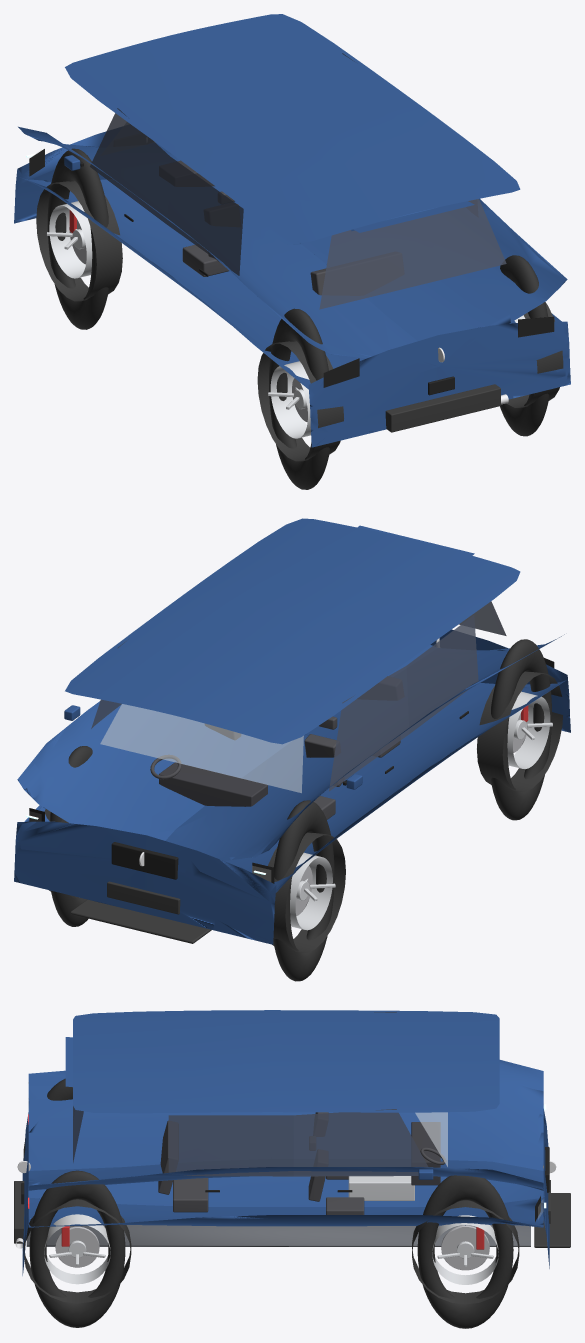
Rendered from Car_Hatchback_Complete.glb.
The picture shows the model from 3 angles, top to bottom: view 1: azimuth 30°, elevation 25°; view 2: azimuth 150°, elevation 25°; view 3: azimuth 270°, elevation 25°; orthographic projection. The views are drawn at different scales.
Parts seen in each view (by area): view 1: GEO_Roof, GEO_Body_Upper, GEO_Bumper_Rear, GEO_RearWindow, GEO_RearWindow.001, GEO_Body_Main, GEO_Window_RR, GEO_Window_RR.001, GEO_Window_FR, GEO_Window_FR.001, GEO_Tire_FR, GEO_Tire_RR (+14 smaller); view 2: GEO_Roof, GEO_Body_Upper, GEO_Bumper_Front, GEO_Body_Main, GEO_Windshield, GEO_Windshield.001, GEO_Window_FR, GEO_Window_FR.001, GEO_Window_RR, GEO_Tire_RR, GEO_Window_RR.001, GEO_Tire_FR (+14 smaller); view 3: GEO_Roof, GEO_Body_Upper, GEO_Body_Main, GEO_Window_FL, GEO_Window_RL, GEO_Underbody, GEO_Window_RL.001, GEO_Window_FL.001, GEO_Tire_RL, GEO_Tire_FL, GEO_Seat_Rear, GEO_Console (+16 smaller).
Part boxes in pixels (<box>): GEO_Roof: <box>65,14,520,242</box>; GEO_Body_Upper: <box>18,126,567,358</box>; GEO_Bumper_Rear: <box>308,321,570,447</box>; GEO_RearWindow: <box>319,199,506,309</box>; GEO_RearWindow.001: <box>320,199,505,308</box>; GEO_Body_Main: <box>20,177,561,389</box>; GEO_Window_RR: <box>167,157,243,275</box>; GEO_Window_RR.001: <box>167,157,243,275</box>; GEO_Window_FR: <box>90,108,169,224</box>; GEO_Window_FR.001: <box>90,109,169,223</box>; GEO_Tire_FR: <box>47,148,108,329</box>; GEO_Tire_RR: <box>269,308,329,489</box>; GEO_Roof: <box>65,518,520,744</box>; GEO_Body_Upper: <box>17,634,564,860</box>; GEO_Bumper_Front: <box>14,821,276,944</box>; GEO_Body_Main: <box>24,680,566,892</box>; GEO_Windshield: <box>100,704,303,792</box>; GEO_Windshield.001: <box>101,704,303,792</box>; GEO_Window_FR: <box>329,666,409,791</box>; GEO_Window_FR.001: <box>329,666,408,790</box>; GEO_Window_RR: <box>406,615,478,733</box>; GEO_Tire_RR: <box>491,639,551,820</box>; GEO_Window_RR.001: <box>407,615,478,733</box>; GEO_Tire_FR: <box>273,800,334,981</box>; GEO_Roof: <box>73,1010,499,1113</box>; GEO_Body_Upper: <box>28,1060,543,1190</box>; GEO_Body_Main: <box>28,1176,543,1227</box>; GEO_Window_FL: <box>293,1109,427,1176</box>; GEO_Window_RL: <box>168,1115,293,1176</box>; GEO_Underbody: <box>26,1225,530,1246</box>; GEO_Window_RL.001: <box>169,1115,293,1176</box>; GEO_Window_FL.001: <box>294,1109,427,1176</box>; GEO_Tire_RL: <box>29,1170,125,1327</box>; GEO_Tire_FL: <box>417,1175,513,1328</box>; GEO_Seat_Rear: <box>158,1120,208,1212</box>; GEO_Console: <box>348,1176,414,1200</box>.
Size of the model in its own units: 2.02 by 1.67 by 3.78.
